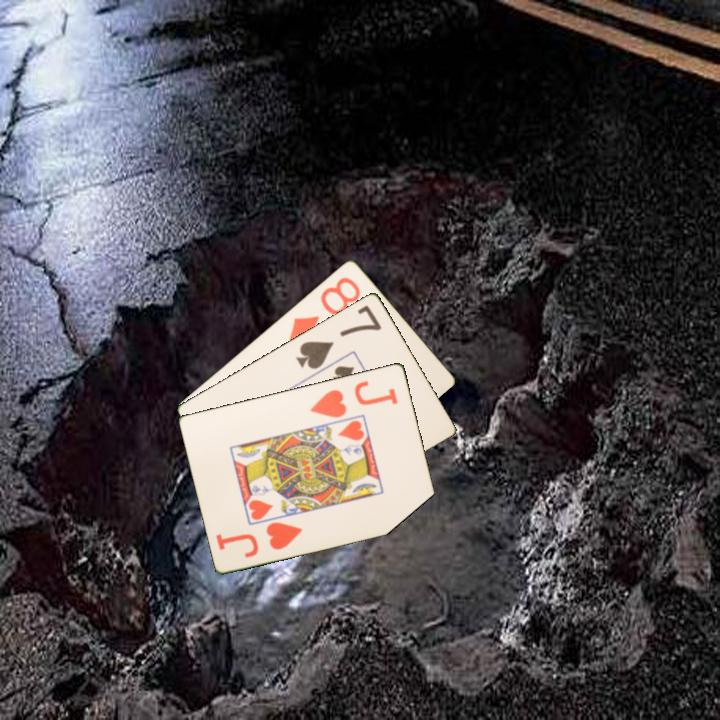7s: (292, 301, 385, 372)
8d: (285, 273, 363, 345)
Jh: (306, 377, 401, 420), (263, 518, 306, 552)
